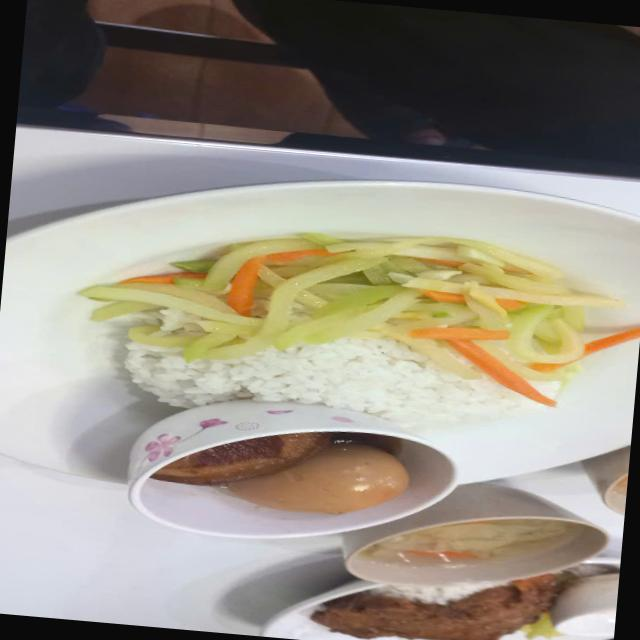com: (125, 338, 530, 430)
kho trung: (156, 432, 406, 514)
rau: (80, 235, 640, 405)
suon mieng: (310, 571, 568, 640)
